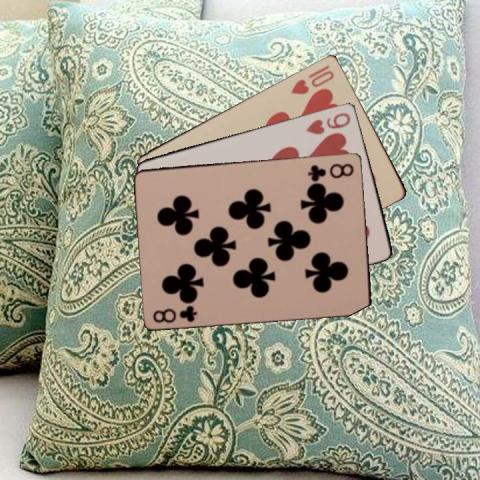10h: (287, 61, 336, 96)
8c: (150, 302, 199, 324), (306, 160, 356, 181)
9h: (303, 109, 352, 136)
